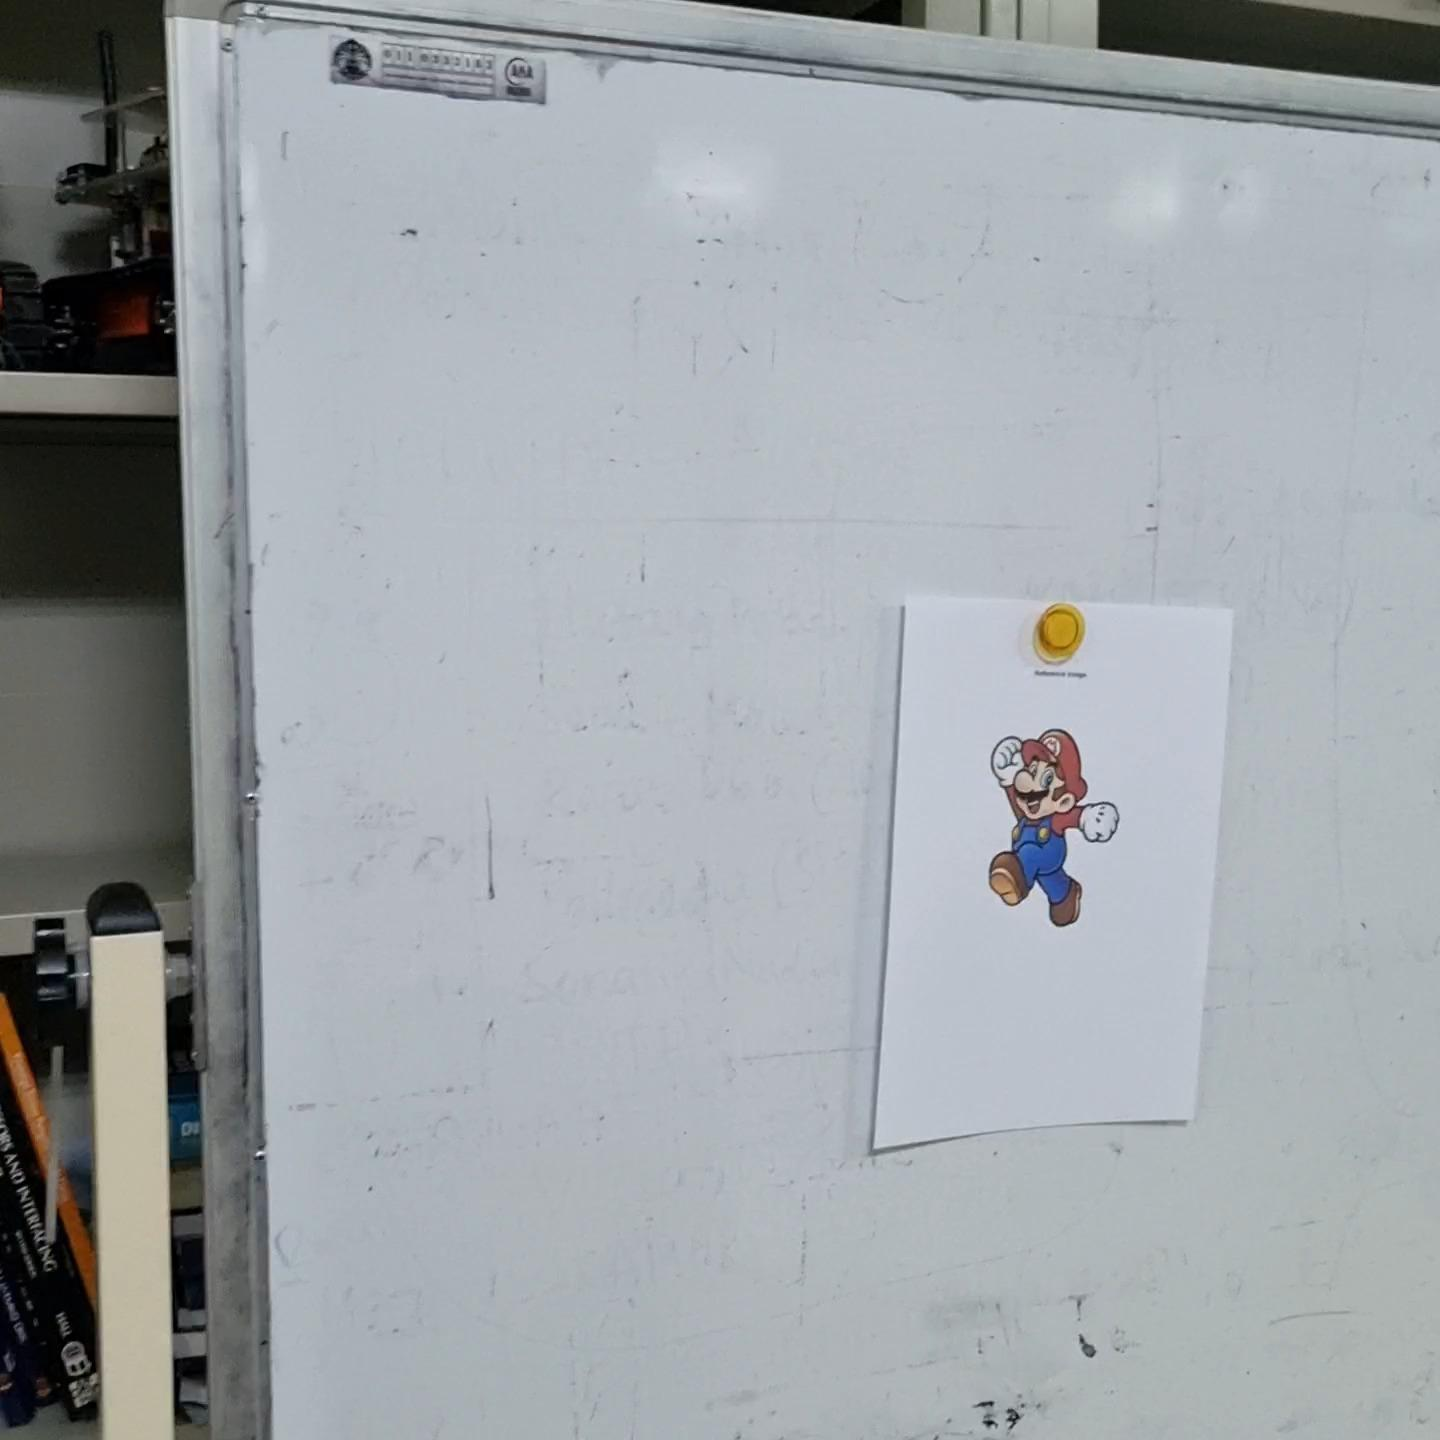mario: (977, 717, 1125, 934)
